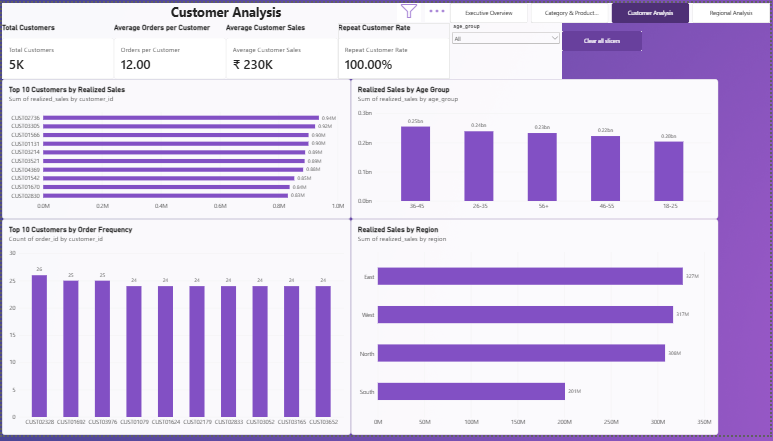

The page's visual inventory and layout, read from the dashboard file:
{"tool":"powerbi","page":{"name":"Customer Analysis","canvas":[1920,1080],"ordinal":2},"visuals":[{"type":"textbox","box":[0,0,1120,50],"z":0},{"type":"clusteredBarChart","title":"Top 10 Customers by Realized Sales","fields":{"Category":["sales_master.customer_id"],"Y":["Sum(sales_master.realized_sales)"]},"box":[0,190,872,350],"z":1},{"type":"clusteredColumnChart","title":"Top 10 Customers by Order Frequency","fields":{"Category":["sales_master.customer_id"],"Y":["CountNonNull(sales_master.order_id)"]},"box":[0,540,872,540],"z":2},{"type":"clusteredColumnChart","title":"Realized Sales by Age Group","fields":{"Category":["sales_master.age_group"],"Y":["Sum(sales_master.realized_sales)"]},"box":[872,190,918,350],"z":3},{"type":"cardVisual","title":"Total Customers","fields":{"Data":["sales_master.Total Customers"]},"box":[0,50,280,140],"z":4},{"type":"cardVisual","title":"Average Orders per Customer","fields":{"Data":["sales_master.Orders per Customer"]},"box":[280,50,280,140],"z":5},{"type":"cardVisual","title":"Average Customer Sales","fields":{"Data":["sales_master.Average Customer Sales"]},"box":[560,50,280,140],"z":6},{"type":"slicer","fields":{"Values":["sales_master.age_group"]},"box":[1120,50,280,140],"z":7},{"type":"clusteredBarChart","title":"Realized Sales by Region","fields":{"Category":["sales_master.region"],"Y":["Sum(sales_master.realized_sales)"]},"box":[872,540,918,540],"z":8},{"type":"cardVisual","title":"Repeat Customer Rate","fields":{"Data":["sales_master.Repeat Customer Rate"]},"box":[840,50,280,140],"z":9},{"type":"pageNavigator","box":[1120,0,800,50],"z":10},{"type":"actionButton","box":[1400,70,200,50],"z":11}]}

Visuals, with their boxes on the page's 1920x1080 design canvas (x1, y1, x2, y2). These are canvas units, not pixel positions in the 773x441 screenshot, which may show the page scaled, cropped or inside an application window:
textbox: [0,0,1120,50]
"Top 10 Customers by Realized Sales" clusteredBarChart: [0,190,872,540]
"Top 10 Customers by Order Frequency" clusteredColumnChart: [0,540,872,1080]
"Realized Sales by Age Group" clusteredColumnChart: [872,190,1790,540]
"Total Customers" cardVisual: [0,50,280,190]
"Average Orders per Customer" cardVisual: [280,50,560,190]
"Average Customer Sales" cardVisual: [560,50,840,190]
slicer - sales_master.age_group: [1120,50,1400,190]
"Realized Sales by Region" clusteredBarChart: [872,540,1790,1080]
"Repeat Customer Rate" cardVisual: [840,50,1120,190]
pageNavigator: [1120,0,1920,50]
actionButton: [1400,70,1600,120]
